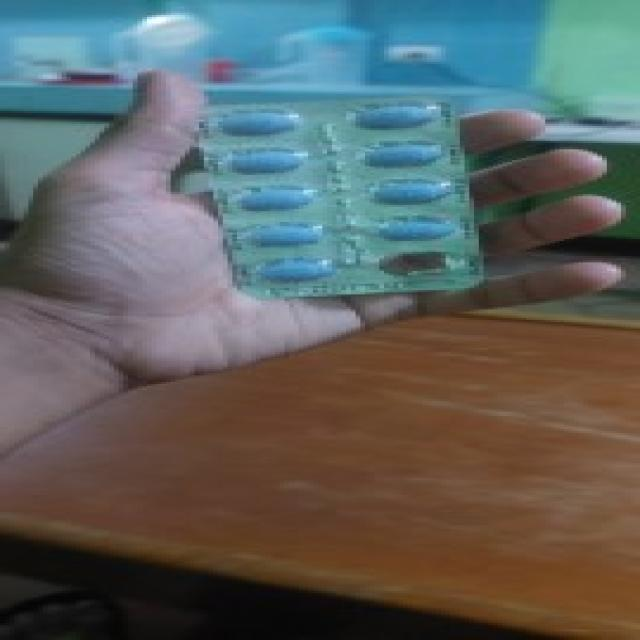Cacat: (188, 97, 491, 294)
Kemasan: (370, 249, 467, 281)
